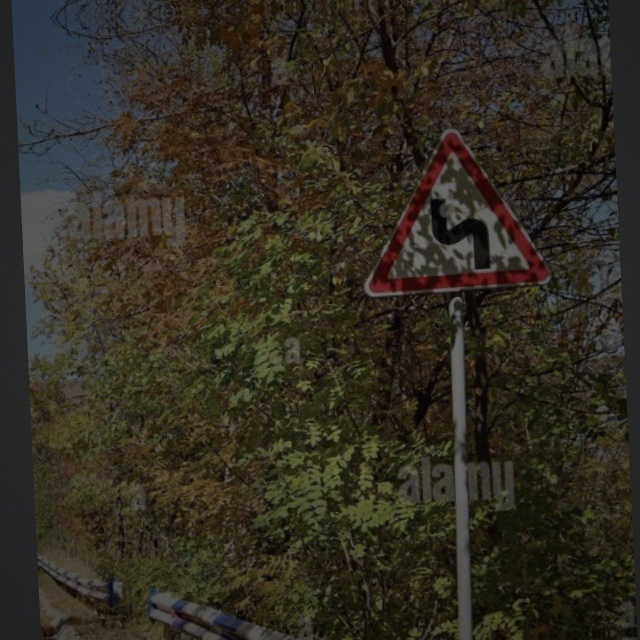Left_Reverse_Bend: (374, 139, 540, 291)
